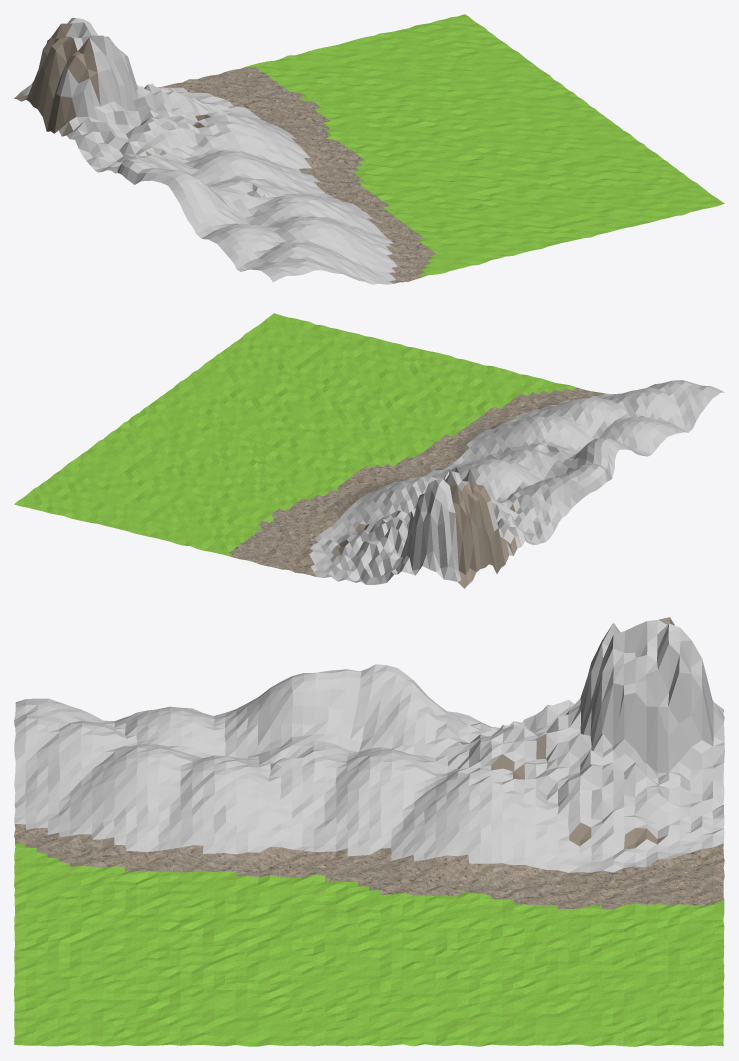
The model's file is terrain.fbx.
The picture shows the model from 3 angles, top to bottom: view 1: azimuth 30°, elevation 25°; view 2: azimuth 150°, elevation 25°; view 3: azimuth 270°, elevation 25°; orthographic projection. The views are drawn at different scales.
Visible parts, largest first — view 1: Ground; view 2: Ground; view 3: Ground.
Boxes of the visible parts, bbox=[...] form: Ground: bbox=[14, 14, 724, 284]; Ground: bbox=[14, 313, 724, 588]; Ground: bbox=[14, 617, 724, 1046].
Bounding box in the file's own units: 1039 × 1002 × 239.
